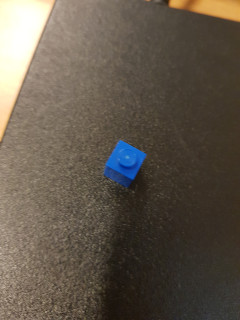1x1 blue: (102, 137, 148, 190)
